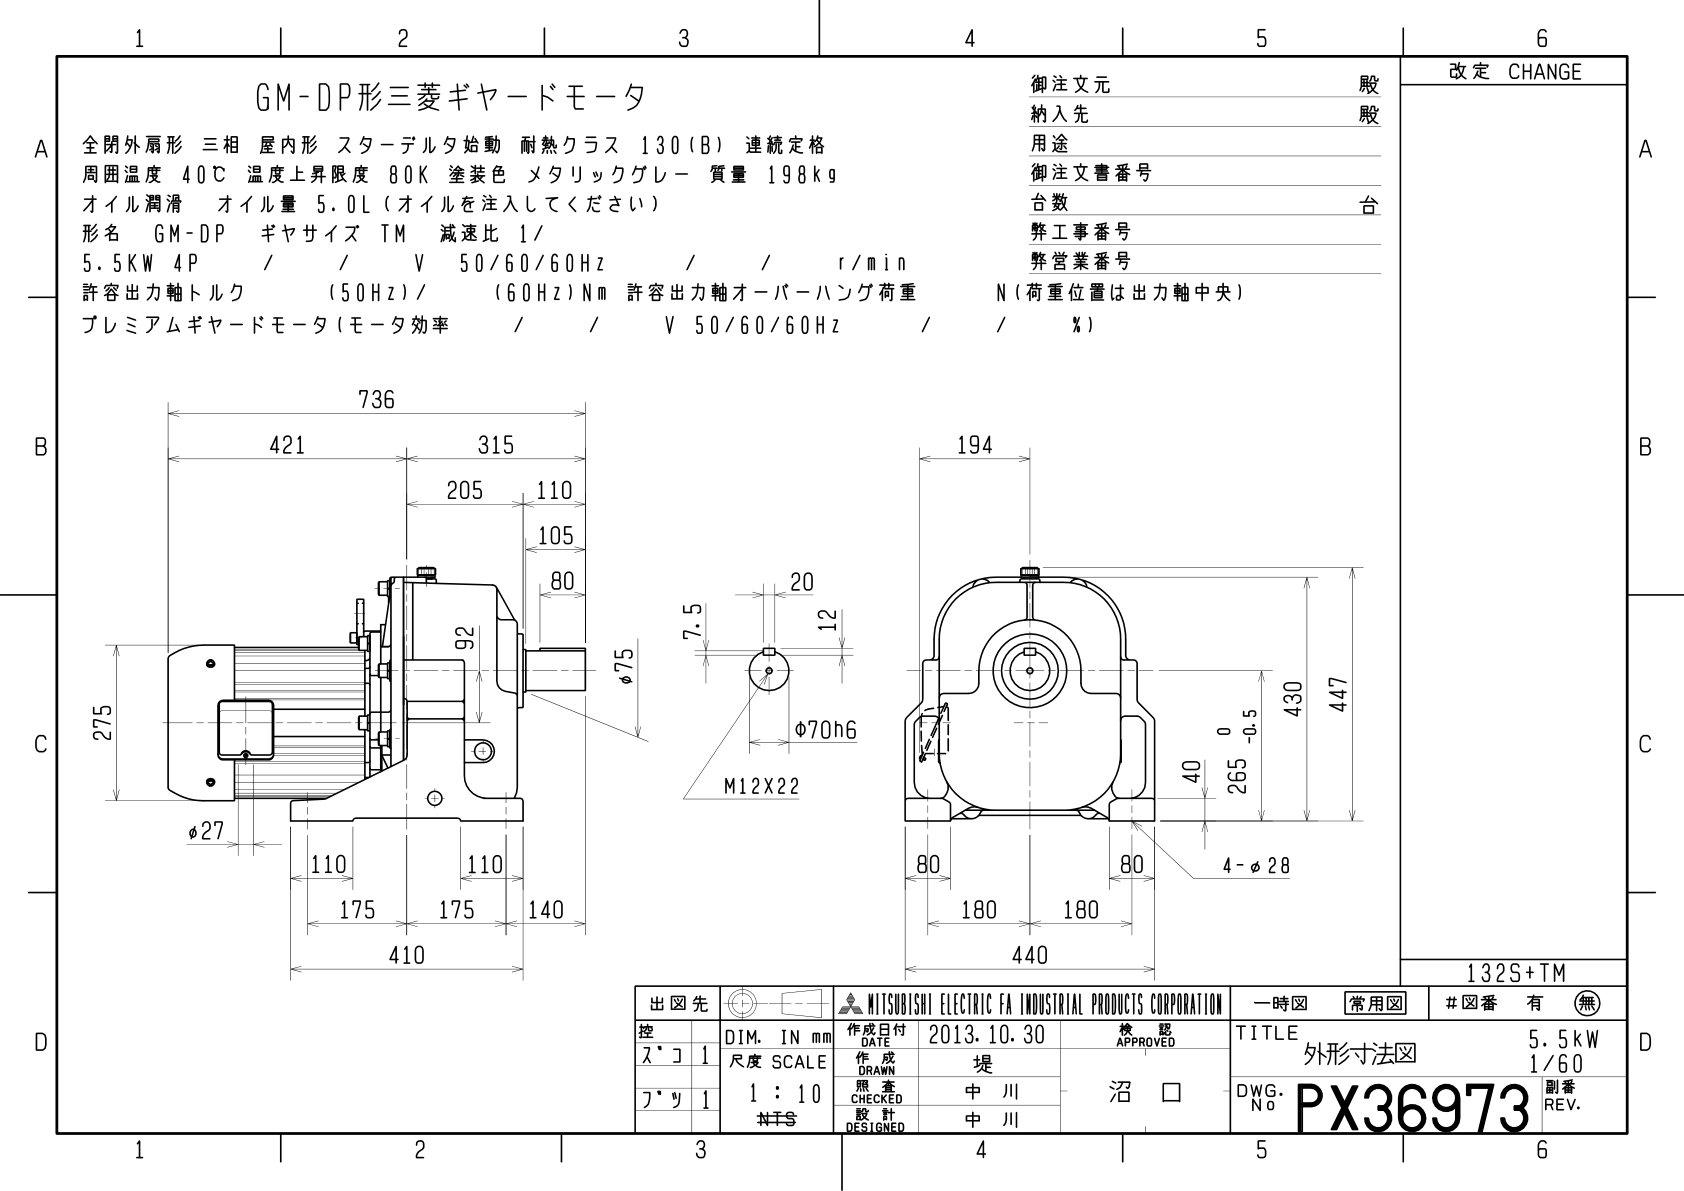GM_D_屋内＿三相_脚: (12, 4, 1684, 1191)
